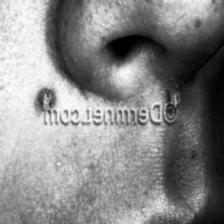Toxin: (38, 86, 56, 114)
